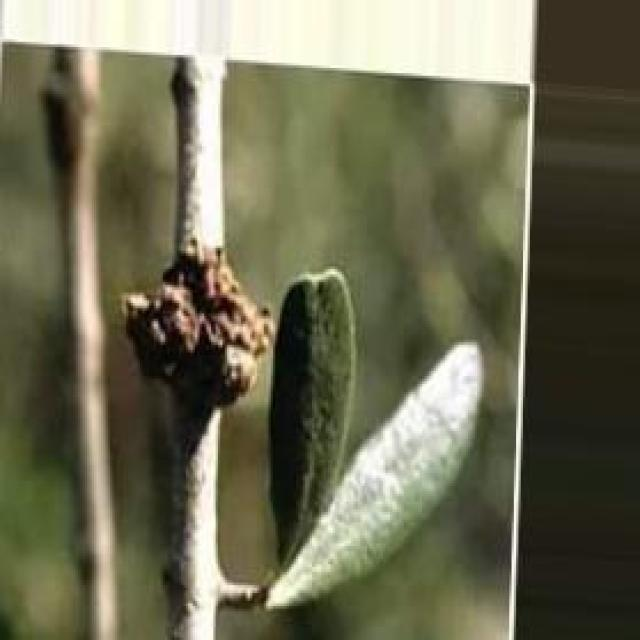Tuberculosis: (122, 238, 271, 418)
